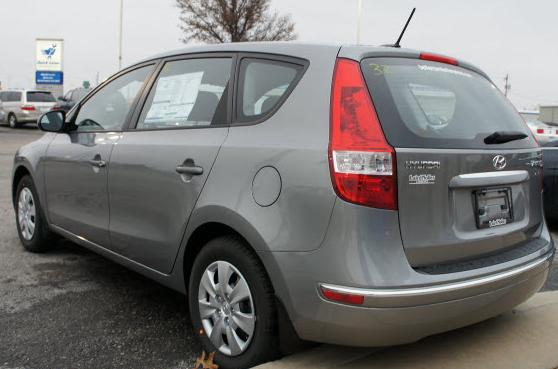back_view: (329, 50, 557, 351)
backlight: (329, 54, 403, 215)
side_glass: (60, 55, 314, 137)
